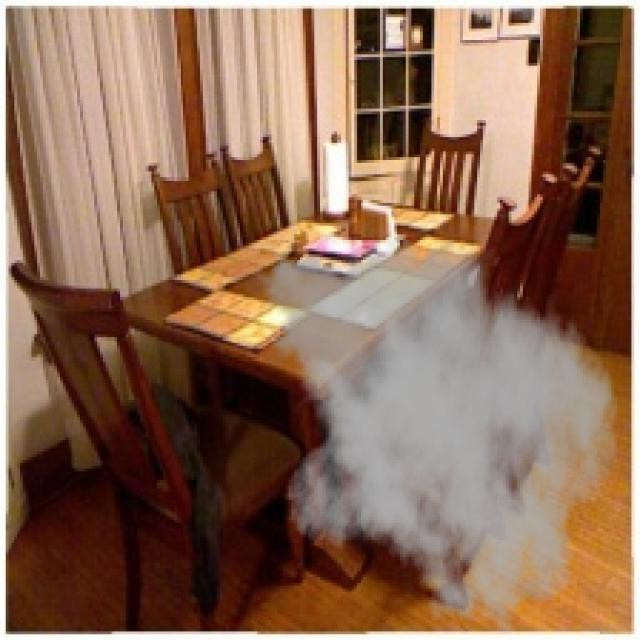Smoke: (248, 232, 620, 637)
